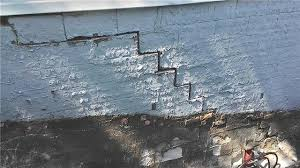stairstep_crack: (0, 14, 214, 111)
